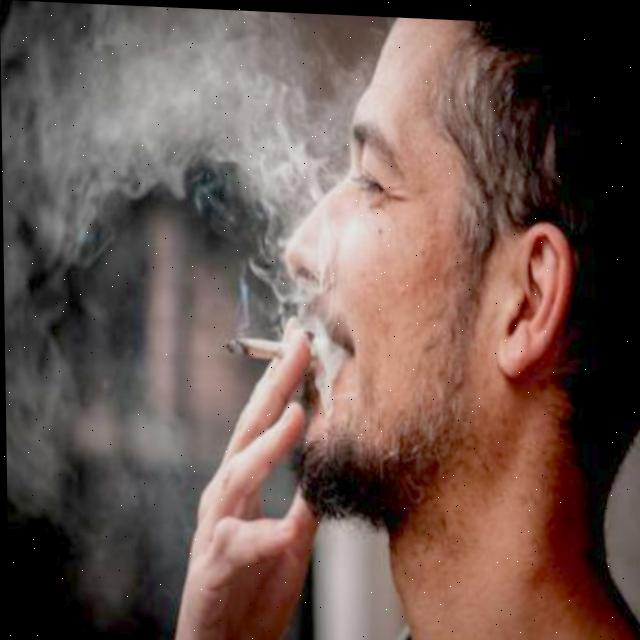cigarette: (223, 335, 285, 361)
